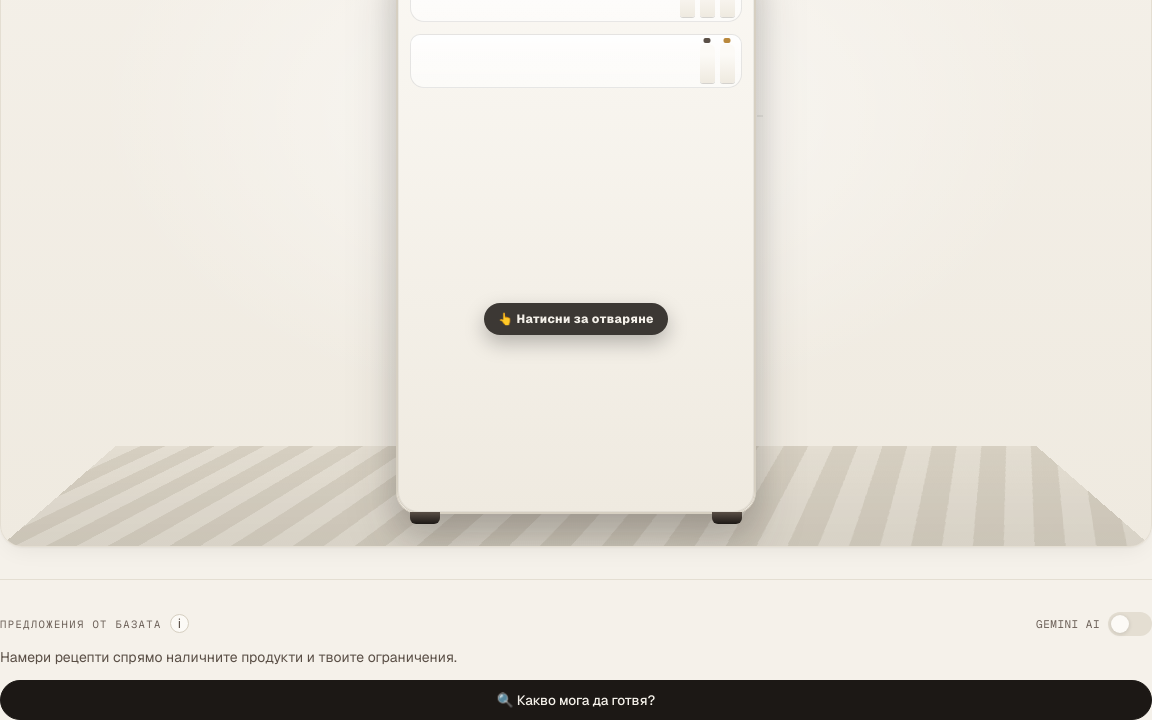
it: FridgeScreen – translate button visibility › shows translate button when lang is bg and recipe is not AI
(page scrolled)
Click the button "🔍 Какво мога да готвя?". click: {"x": 576, "y": 700}
box: [0,680,1151,719]
(page scrolled)
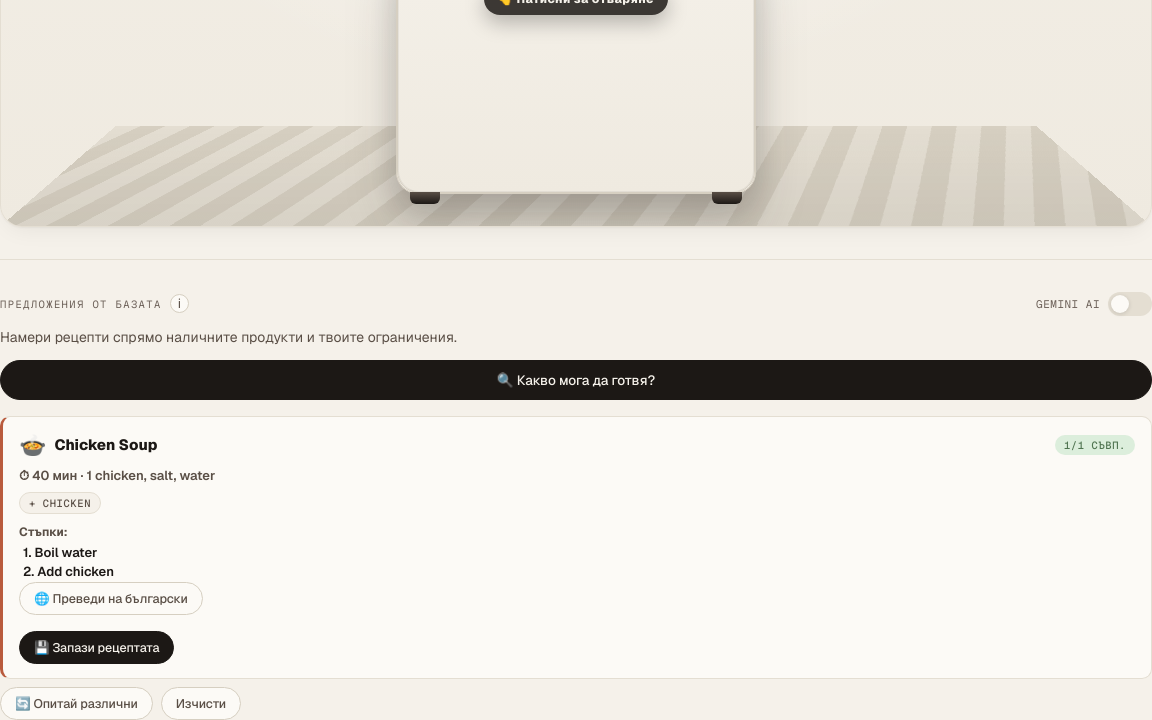
Expected: the button "🌐 Преведи на български" is shown, [19,582,203,615]
